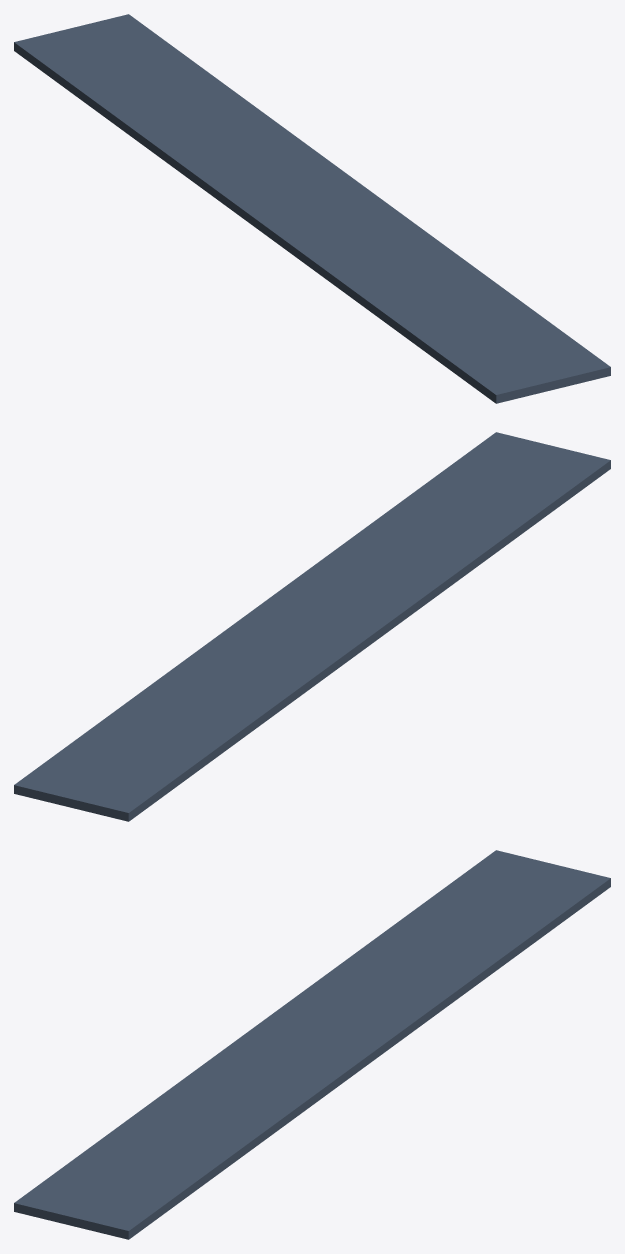
File: floor_030_f_b048ec1549.obj
3 renders of one model, top to bottom at view 1: azimuth 30°, elevation 25°; view 2: azimuth 150°, elevation 25°; view 3: azimuth 330°, elevation 25°, orthographic.
Parts seen in each view (by area): view 1: Floor_030_f_b048ec1549; view 2: Floor_030_f_b048ec1549; view 3: Floor_030_f_b048ec1549.
Boxes of the visible parts, x1,y1,x2,y2 form: Floor_030_f_b048ec1549: [14, 14, 610, 403]; Floor_030_f_b048ec1549: [14, 432, 610, 821]; Floor_030_f_b048ec1549: [14, 850, 610, 1239].
Bounding box in the file's own units: 2.75 × 0.2 × 20.
